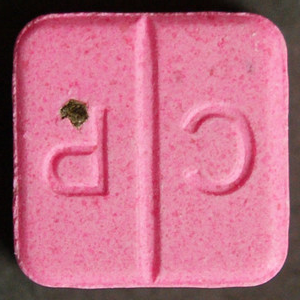Square: (2, 9, 297, 300)
